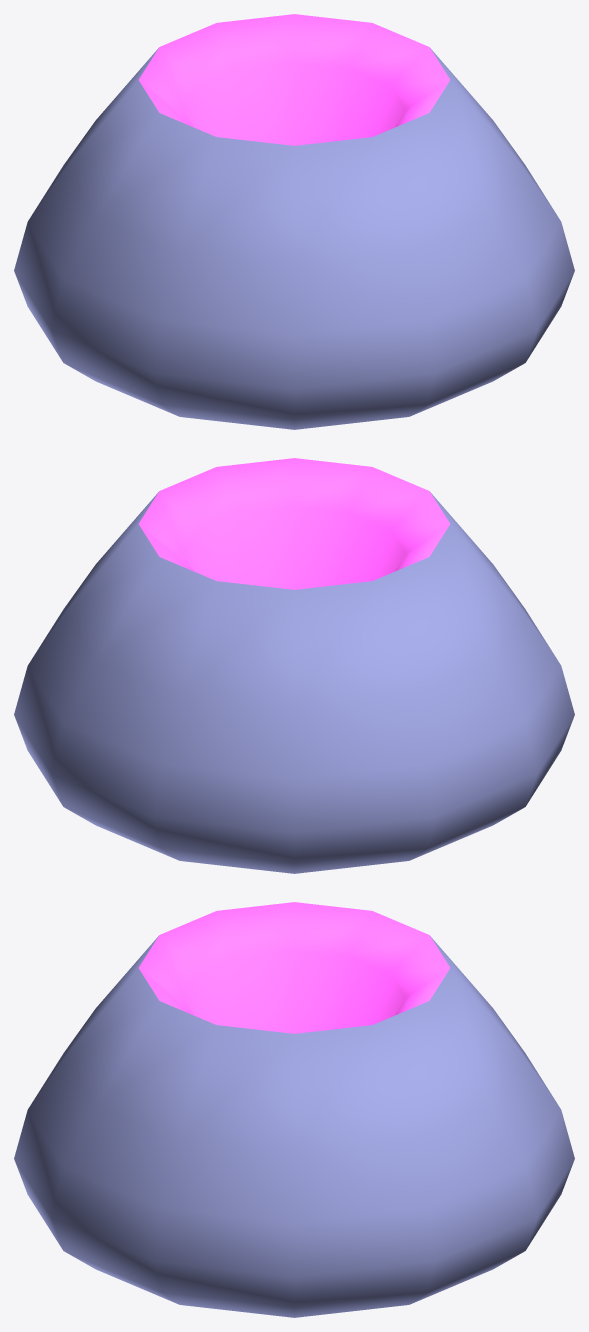
Rendered from psych_test_target.gltf.
3 renders of one model, top to bottom at view 1: azimuth 30°, elevation 25°; view 2: azimuth 150°, elevation 25°; view 3: azimuth 270°, elevation 25°, orthographic.
Parts seen in each view (by area): view 1: psych_test_target; view 2: psych_test_target; view 3: psych_test_target.
Boxes of the visible parts, x1,y1,x2,y2 form: psych_test_target: [14, 14, 574, 429]; psych_test_target: [14, 458, 574, 873]; psych_test_target: [14, 902, 574, 1317].
Size of the model in its own units: 0.5248 by 0.271 by 0.5248.
